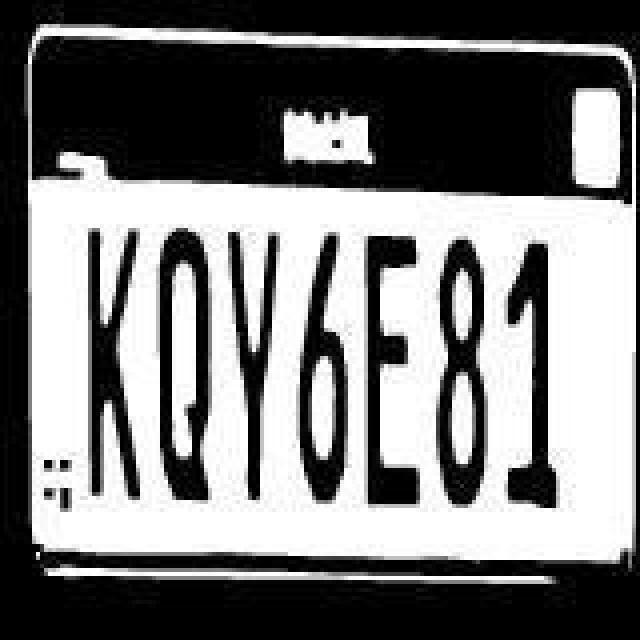1: (504, 236, 560, 516)
6: (294, 230, 354, 506)
8: (432, 232, 488, 512)
E: (362, 228, 422, 508)
K: (80, 226, 144, 510)
Q: (154, 228, 214, 508)
Y: (224, 230, 288, 506)
